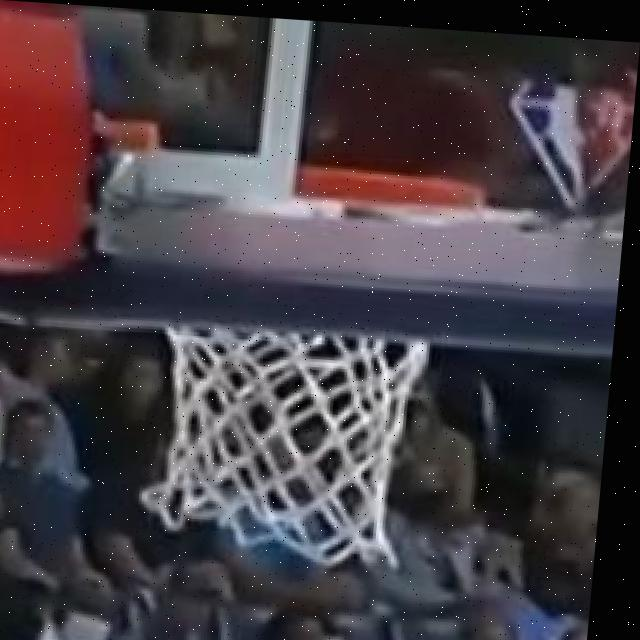hoop: (50, 107, 502, 559)
